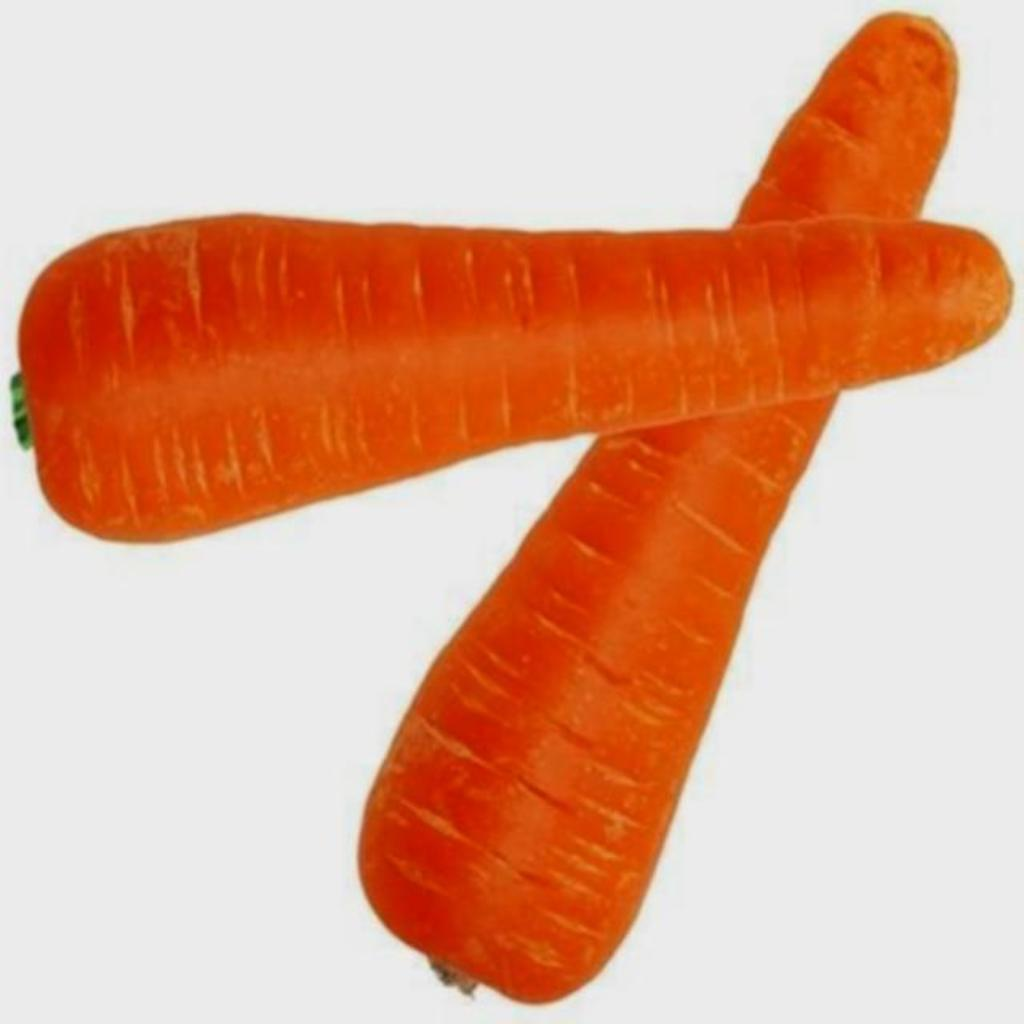carrot: (360, 11, 965, 1001), (20, 216, 1010, 539)
